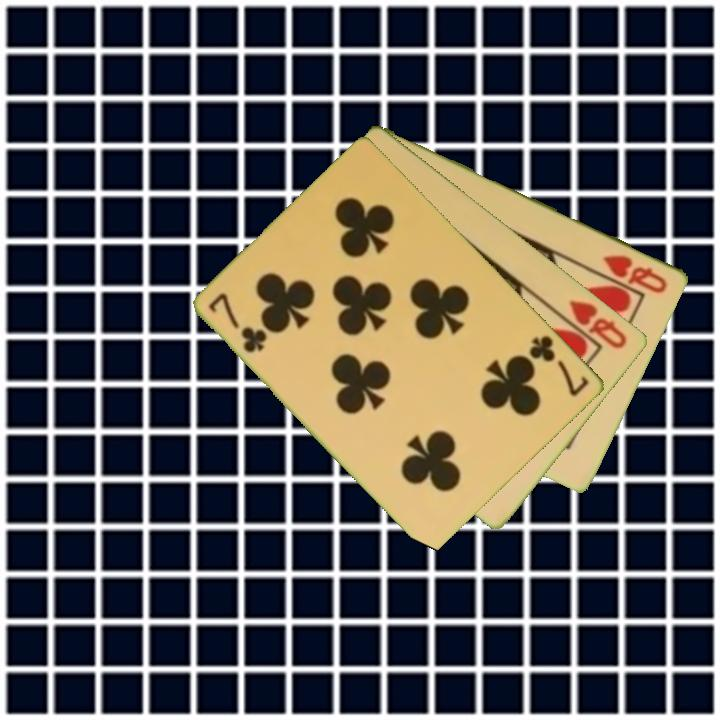7c: (526, 332, 593, 400), (205, 289, 270, 356)
Qh: (566, 296, 631, 352), (600, 251, 671, 297)
